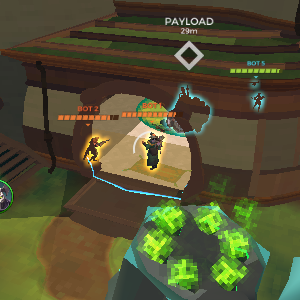model: (142, 127, 166, 174), (79, 131, 105, 164)
